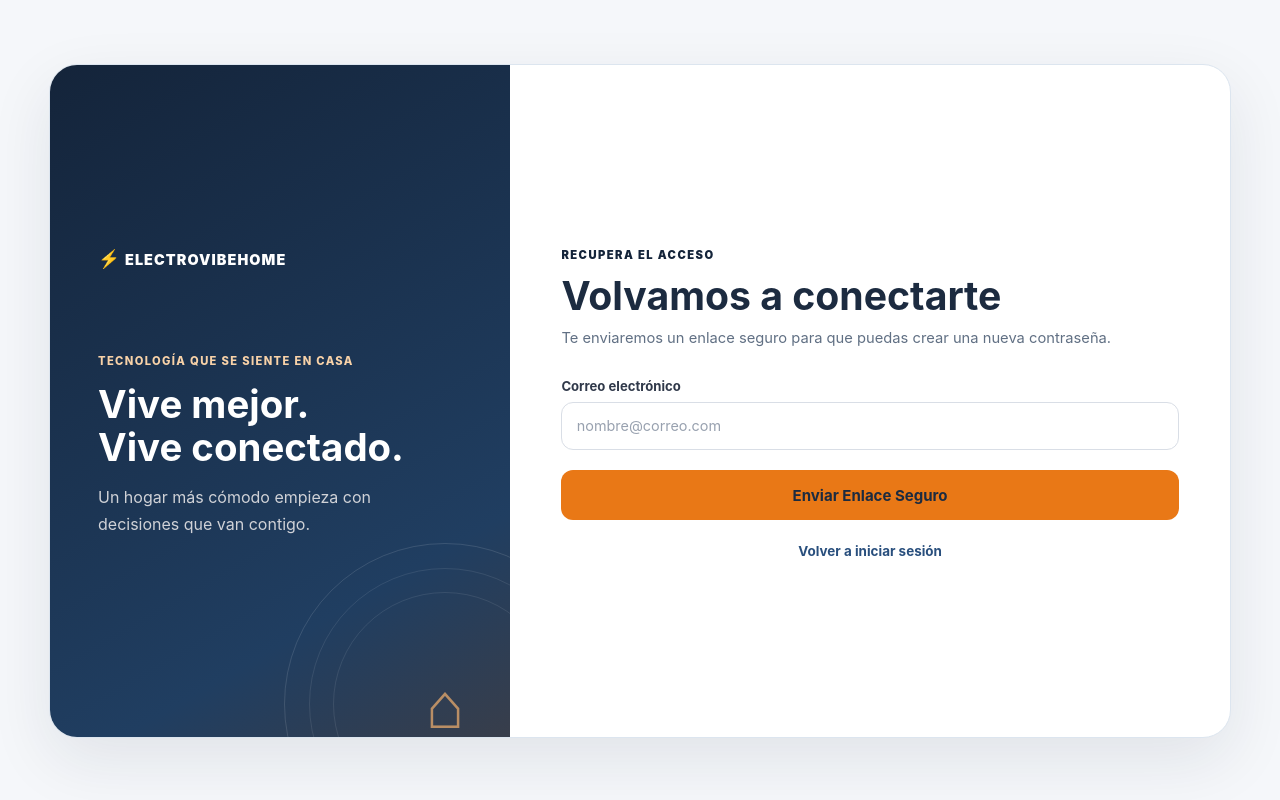
Scenario: RecoverPassword › shows a clear message when the backend reports unavailable email delivery
Type "cliente@example.com" into the field labelled "Correo electrónico".
click(870, 426); type("cliente@example.com")  # box [561, 402, 1179, 450]
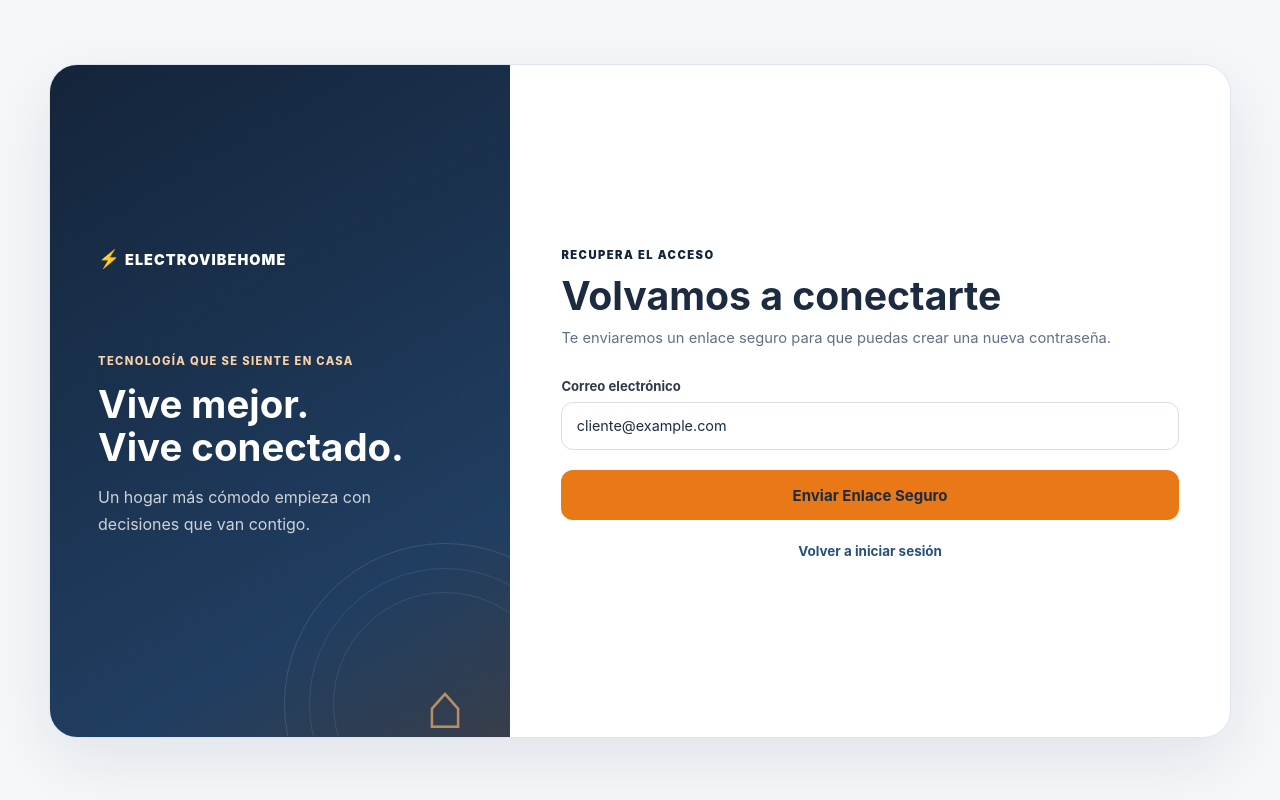
Submit the form labelled "Correo electrónico Enviar Enlace Seguro", box [561, 378, 1179, 520]
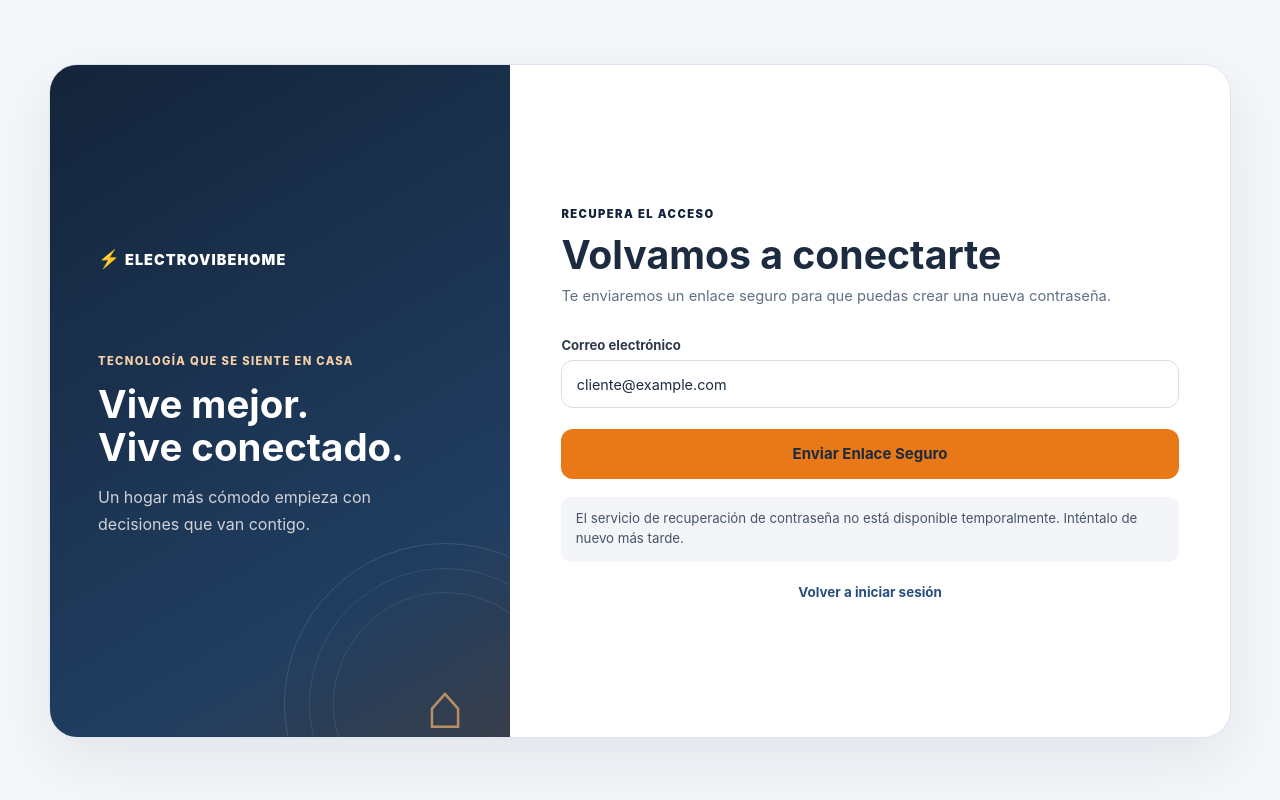
Expected: the button "Enviar Enlace Seguro" is enabled, [561, 429, 1179, 479]
Now the text "servicio de recuperación de contraseña no está disponible" is shown, box [576, 510, 1137, 546]
